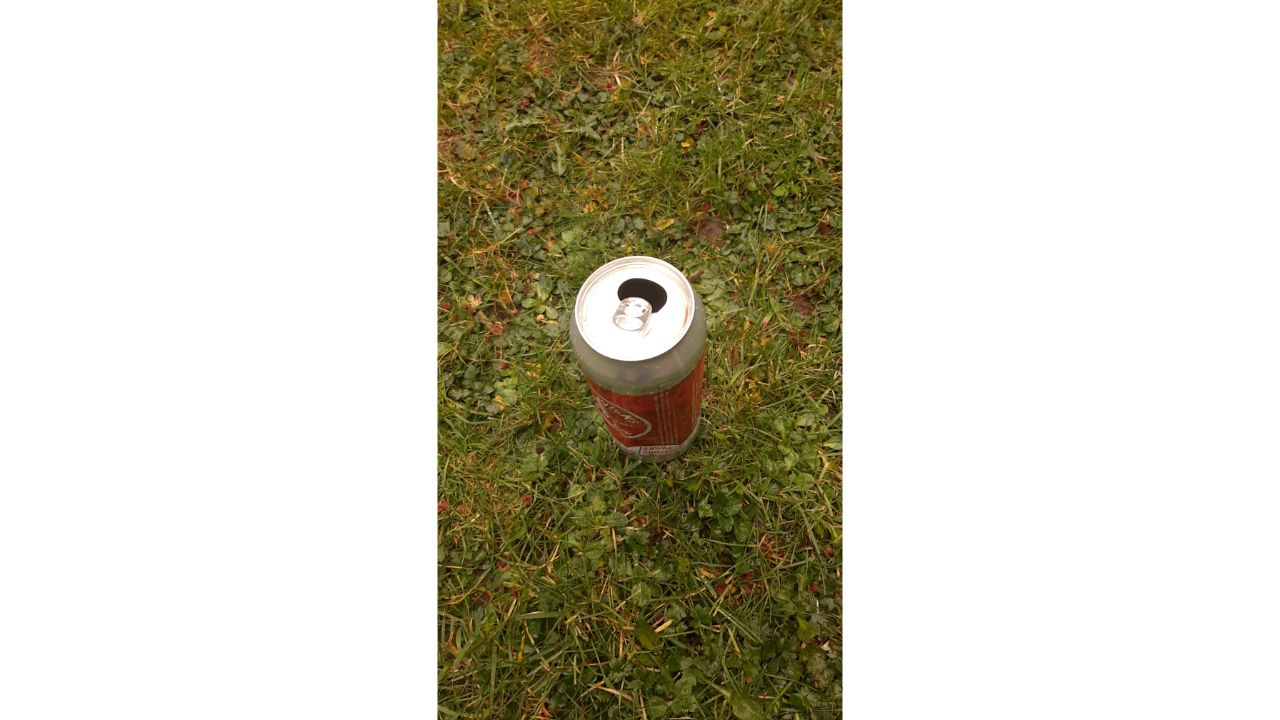Can: (571, 256, 705, 466)
